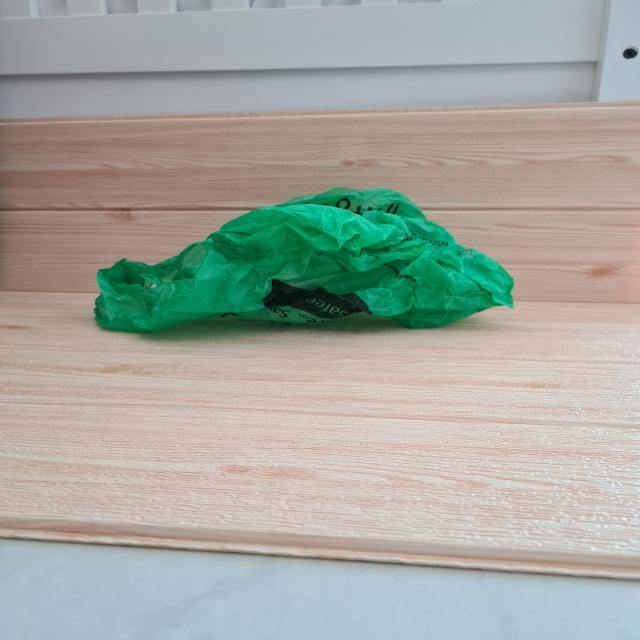plastic: (91, 187, 520, 332)
